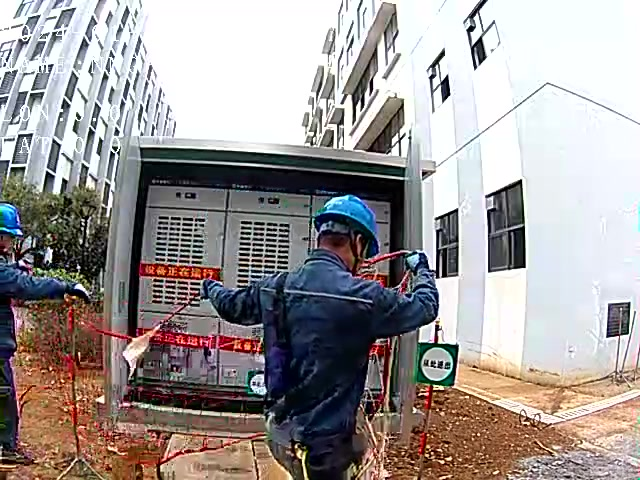downsuit: (1, 354, 36, 463), (258, 454, 351, 480)
glove: (401, 249, 433, 277), (200, 278, 222, 307), (71, 280, 94, 306)
halt: (313, 194, 379, 267), (1, 202, 25, 256)
inear: (348, 232, 368, 270)
intosign: (415, 341, 458, 387)
person: (200, 193, 443, 480), (1, 202, 83, 463)
upsuit: (254, 247, 441, 446), (1, 256, 62, 352)
worksign: (247, 368, 267, 397)
